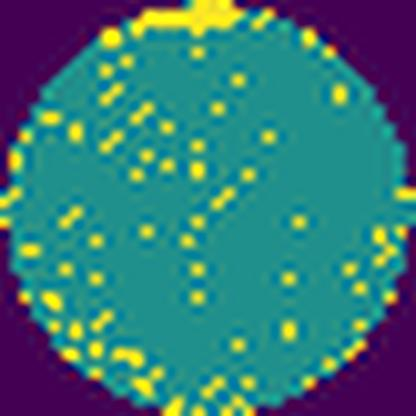Edge-Loc: (125, 0, 247, 42)
